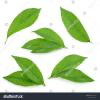Peach leaf: (5, 6, 42, 43), (59, 3, 93, 43), (11, 55, 44, 84), (49, 54, 88, 75), (55, 68, 95, 85), (3, 69, 42, 86), (31, 26, 64, 45), (30, 40, 61, 54), (20, 37, 43, 50)
